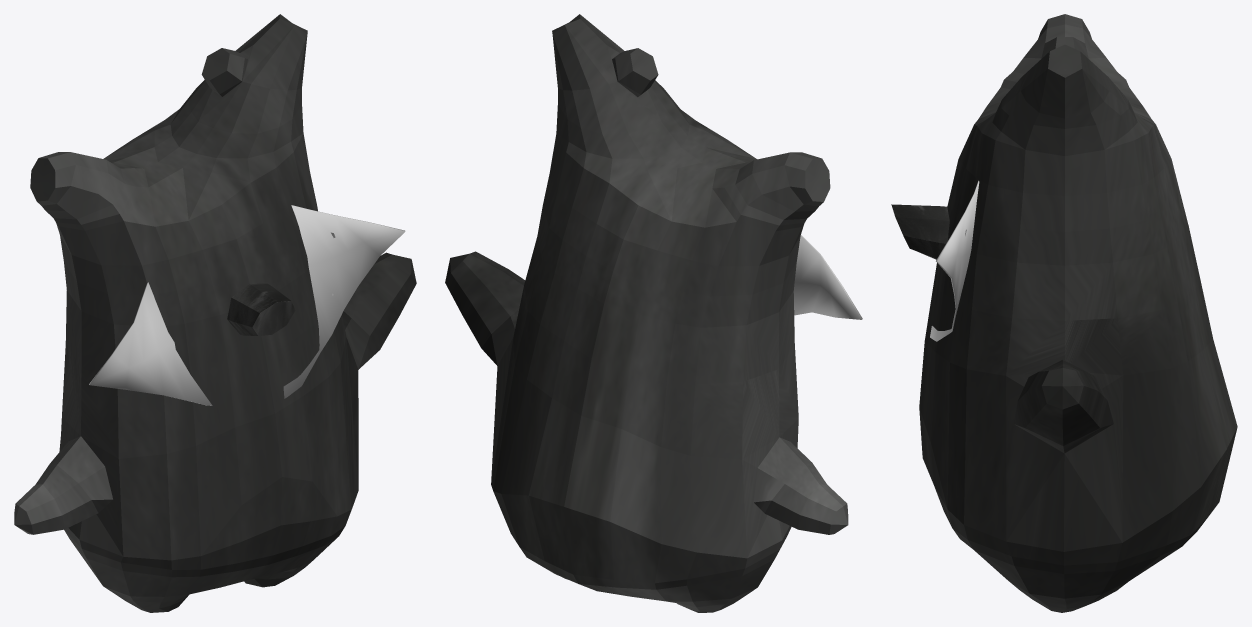
File: frame_0034.obj
3 views of the same model, side by side, from view 1: azimuth 30°, elevation 25°; view 2: azimuth 150°, elevation 25°; view 3: azimuth 270°, elevation 25° (orthographic). The views are drawn at different scales.
Visible parts, largest first — view 1: korok, leaf, nose; view 2: korok, leaf; view 3: korok, nose, leaf.
Boxes of the visible parts, x1,y1,x2,y2 form: korok: [14, 14, 416, 612]; leaf: [89, 205, 405, 405]; nose: [227, 283, 295, 335]; korok: [445, 14, 848, 612]; leaf: [793, 235, 862, 319]; korok: [919, 14, 1237, 612]; nose: [891, 204, 949, 259]; leaf: [930, 180, 979, 341].
Size of the model in its own units: 1.72 by 2.32 by 1.27.
